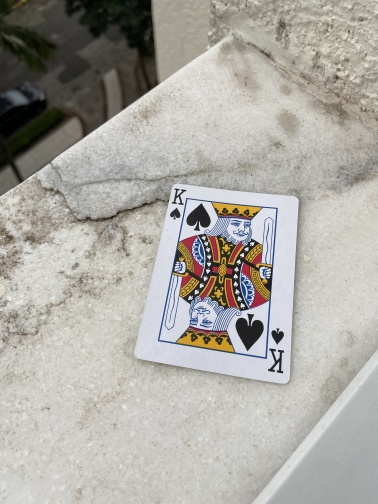king: (132, 183, 301, 386)
